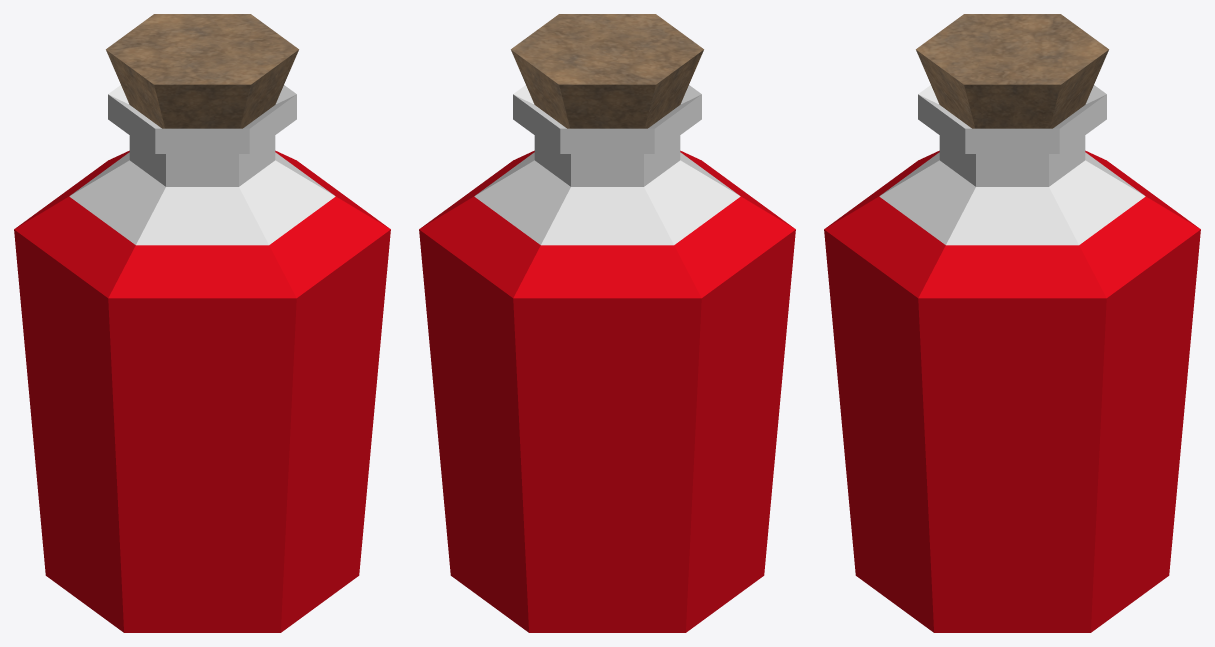
File: RedPotion.fbx
3 renders of one model, left to right at view 1: azimuth 30°, elevation 25°; view 2: azimuth 150°, elevation 25°; view 3: azimuth 270°, elevation 25°, orthographic.
Visible parts, largest first — view 1: RedPotion; view 2: RedPotion; view 3: RedPotion.
Boxes of the visible parts, <box> form: RedPotion: <box>14,14,390,632</box>; RedPotion: <box>419,14,795,632</box>; RedPotion: <box>824,14,1200,632</box>.
Size of the model in its own units: 27.76 by 49.38 by 32.06.
